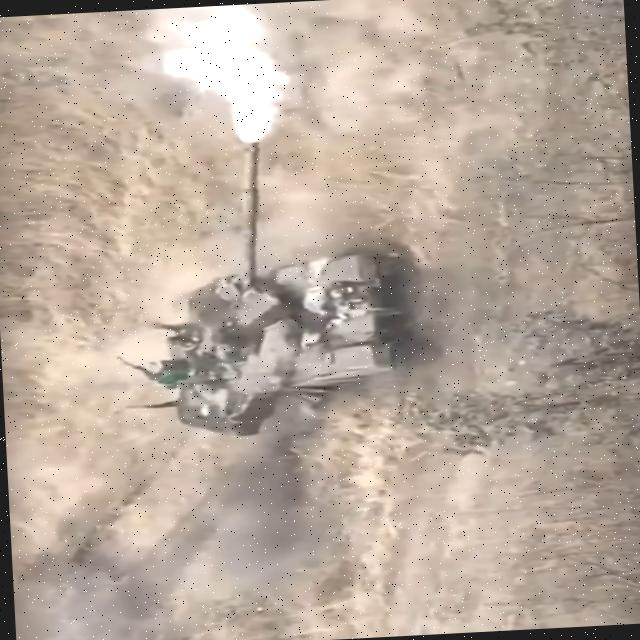MBT: (101, 134, 432, 446)
